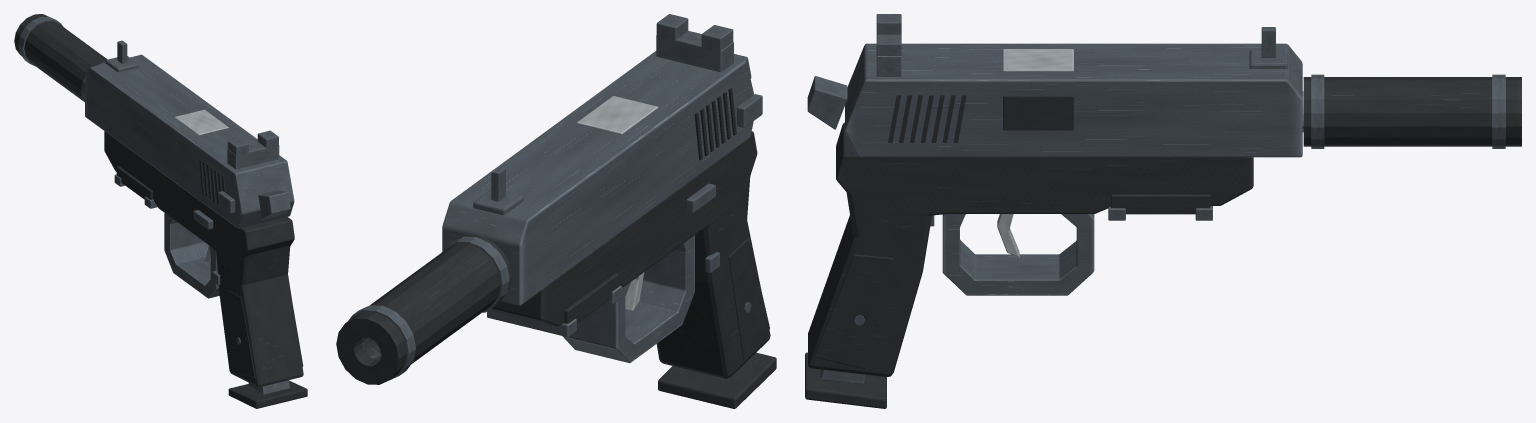
Rendered from usp.glb.
3 renders of one model, left to right at view 1: azimuth 30°, elevation 25°; view 2: azimuth 150°, elevation 25°; view 3: azimuth 270°, elevation 25°, orthographic. The views are drawn at different scales.
Parts seen in each view (by area): view 1: usp_Body, usp_Slide, usp_Suppressor, usp_Magazine; view 2: usp_Slide, usp_Body, usp_Suppressor, usp_Magazine; view 3: usp_Slide, usp_Body, usp_Suppressor, usp_Magazine.
Boxes of the visible parts, left/top/right/bottom form: usp_Body: left=104, top=109, right=303, bottom=387; usp_Slide: left=85, top=40, right=294, bottom=228; usp_Suppressor: left=14, top=14, right=107, bottom=102; usp_Magazine: left=228, top=380, right=307, bottom=408; usp_Slide: left=442, top=14, right=754, bottom=305; usp_Body: left=482, top=54, right=770, bottom=378; usp_Suppressor: left=336, top=236, right=511, bottom=384; usp_Magazine: left=658, top=352, right=776, bottom=408; usp_Slide: left=845, top=14, right=1302, bottom=157; usp_Body: left=807, top=49, right=1303, bottom=376; usp_Suppressor: left=1303, top=74, right=1521, bottom=148; usp_Magazine: left=805, top=352, right=886, bottom=408.
Size of the model in its own units: 0.0946 by 0.3667 by 0.657.
Materials: 3 (3 with a texture image).
